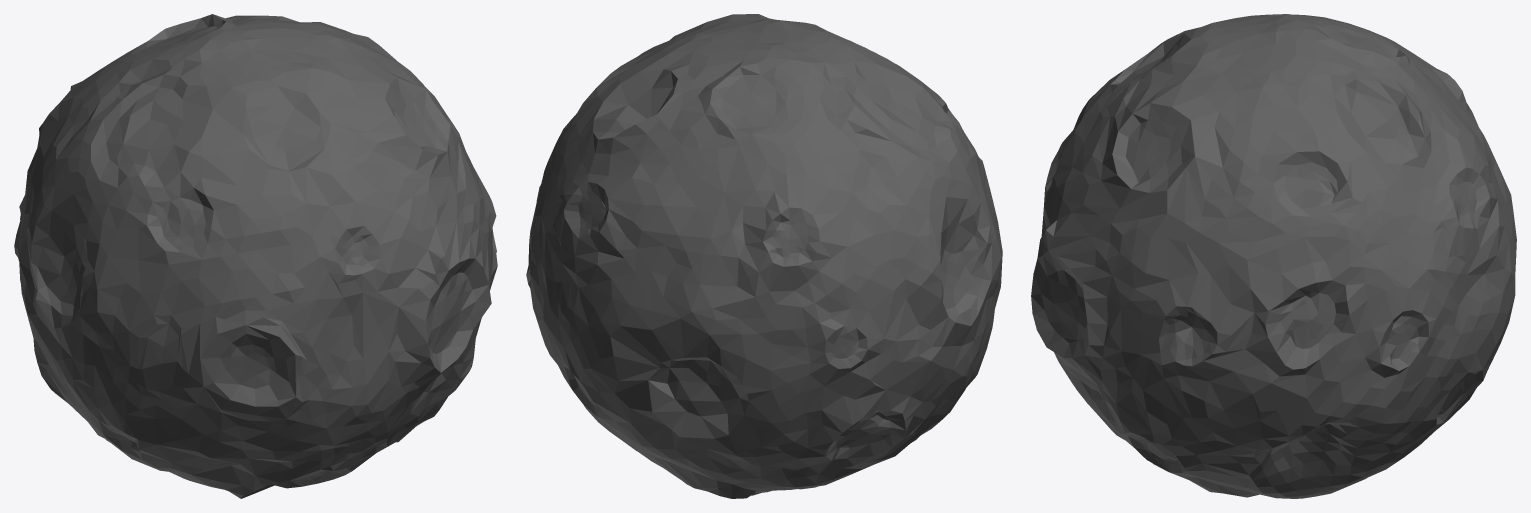
Rendered from Planet_29.glb.
3 views of the same model, side by side, from view 1: azimuth 30°, elevation 25°; view 2: azimuth 150°, elevation 25°; view 3: azimuth 270°, elevation 25° (orthographic). The views are drawn at different scales.
Parts seen in each view (by area): view 1: Planet_29; view 2: Planet_29; view 3: Planet_29.
Boxes of the visible parts, box(x1,y1,x2,y2) form: Planet_29: box(14, 14, 497, 498); Planet_29: box(526, 14, 1002, 498); Planet_29: box(1031, 14, 1516, 498).
Size of the model in its own units: 20.29 by 20.01 by 20.17.
1 material, 1 textured.
